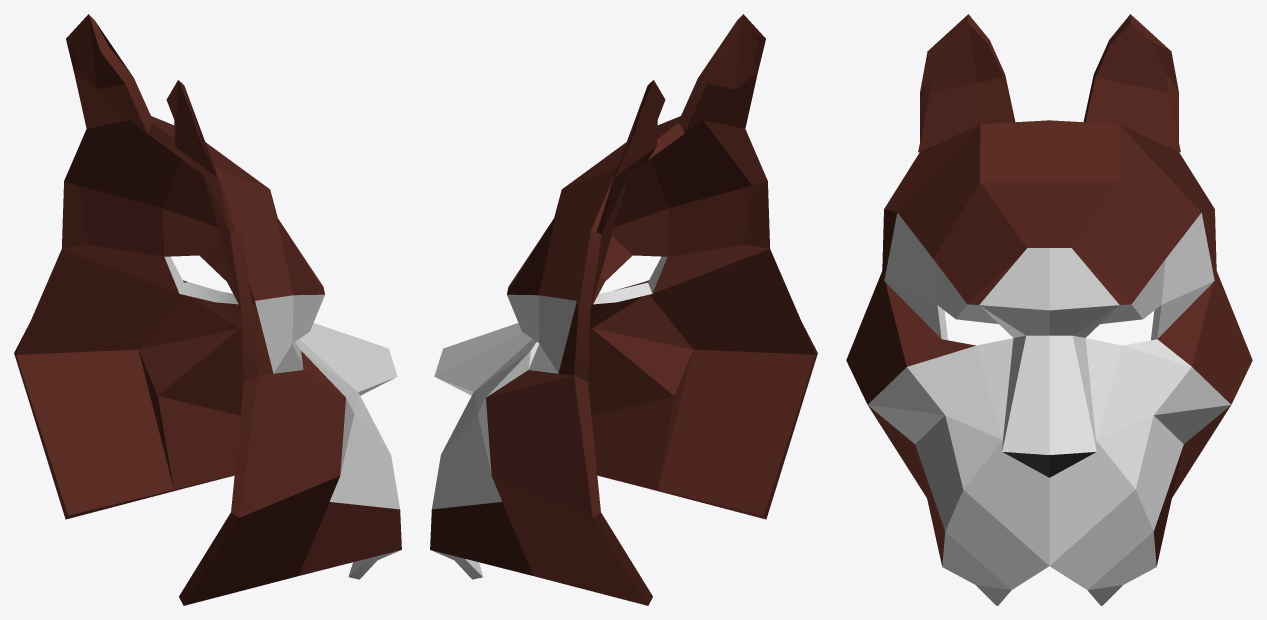
The model's file is mask_chat.fbx.
3 views of the same model, side by side, from view 1: azimuth 30°, elevation 25°; view 2: azimuth 150°, elevation 25°; view 3: azimuth 270°, elevation 25° (orthographic). The views are drawn at different scales.
Visible parts, largest first — view 1: mask_chat; view 2: mask_chat; view 3: mask_chat.
Part boxes in pixels (left/top/right/bottom): mask_chat: left=14, top=14, right=401, bottom=605; mask_chat: left=430, top=14, right=817, bottom=605; mask_chat: left=846, top=14, right=1252, bottom=605.
Bounding box in the file's own units: 0.512 × 1.03 × 0.7527.
